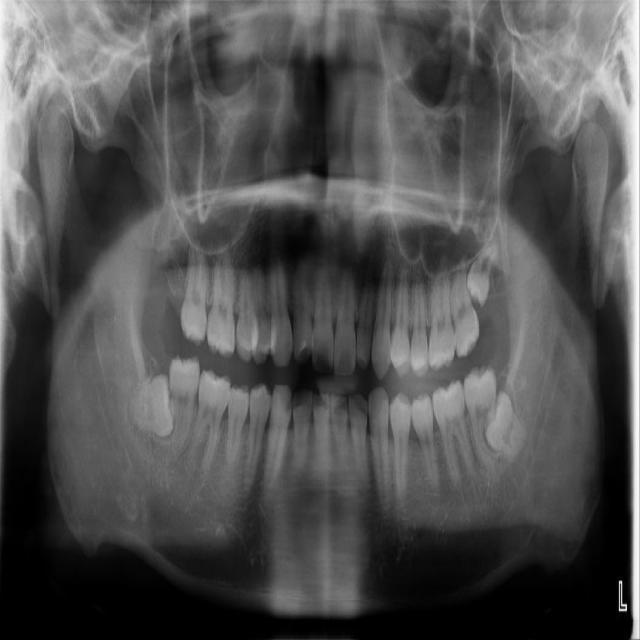impacted tooth: (485, 390, 529, 462), (126, 372, 174, 436), (468, 228, 498, 306)
